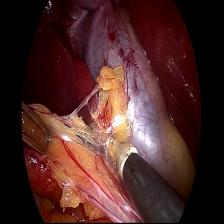Grasper: (21, 99, 54, 165)
Hook: (102, 123, 138, 175)
